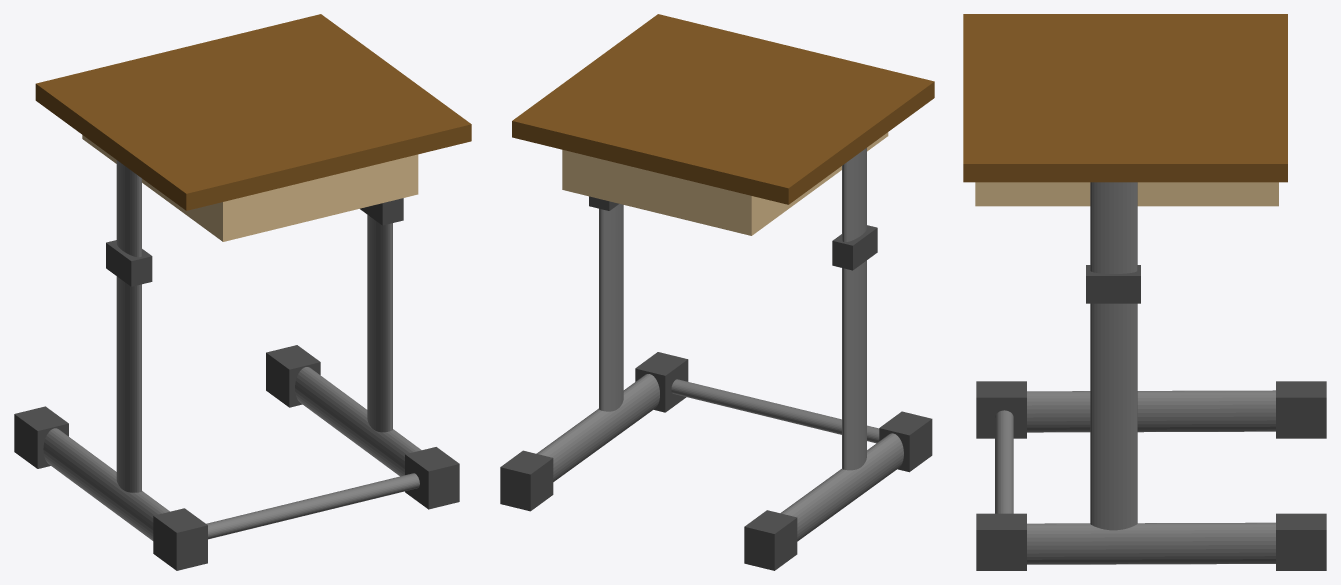
Rendered from desk.fbx.
3 views of the same model, side by side, from view 1: azimuth 30°, elevation 25°; view 2: azimuth 150°, elevation 25°; view 3: azimuth 270°, elevation 25° (orthographic). The views are drawn at different scales.
Visible parts, largest first — view 1: Cube.006, Cube.007, Cylinder, Cylinder.001, Cylinder.002, Cylinder.003, Cylinder.004, Cube.002, Cube.003, Cube.001, Cube, Cube.005 (+1 smaller); view 2: Cube.006, Cube.007, Cylinder, Cylinder.001, Cylinder.002, Cylinder.003, Cylinder.004, Cube, Cube.001, Cube.002, Cube.003, Cube.005; view 3: Cube.006, Cylinder.001, Cylinder.003, Cylinder.002, Cube.007, Cube, Cube.001, Cube.003, Cube.002, Cylinder.004, Cube.004.
Part boxes in pixels (x1=…): Cube.006: x1=35, y1=14, x2=471, y2=210; Cube.007: x1=82, y1=135, x2=418, y2=241; Cylinder: x1=116, y1=160, x2=141, y2=492; Cylinder.001: x1=367, y1=215, x2=392, y2=432; Cylinder.002: x1=43, y1=428, x2=169, y2=540; Cylinder.003: x1=295, y1=367, x2=421, y2=476; Cylinder.004: x1=206, y1=473, x2=419, y2=539; Cube.002: x1=153, y1=508, x2=207, y2=570; Cube.003: x1=405, y1=447, x2=459, y2=509; Cube.001: x1=14, y1=406, x2=68, y2=468; Cube: x1=266, y1=345, x2=320, y2=407; Cube.005: x1=106, y1=240, x2=152, y2=286; Cube.006: x1=512, y1=14, x2=934, y2=204; Cube.007: x1=562, y1=132, x2=888, y2=235; Cylinder: x1=842, y1=148, x2=866, y2=470; Cylinder.001: x1=599, y1=204, x2=623, y2=411; Cylinder.002: x1=780, y1=433, x2=903, y2=541; Cylinder.003: x1=536, y1=374, x2=659, y2=481; Cylinder.004: x1=671, y1=379, x2=879, y2=443; Cube: x1=500, y1=450, x2=553, y2=511; Cube.001: x1=744, y1=510, x2=797, y2=570; Cube.002: x1=879, y1=411, x2=932, y2=472; Cube.003: x1=635, y1=352, x2=688, y2=412; Cube.005: x1=832, y1=225, x2=877, y2=270; Cube.006: x1=963, y1=14, x2=1287, y2=182; Cylinder.001: x1=1090, y1=182, x2=1137, y2=530; Cylinder.003: x1=1027, y1=522, x2=1275, y2=564; Cylinder.002: x1=1027, y1=390, x2=1275, y2=432; Cube.007: x1=975, y1=182, x2=1278, y2=206; Cube: x1=1276, y1=513, x2=1326, y2=570; Cube.001: x1=1276, y1=381, x2=1326, y2=438; Cube.003: x1=976, y1=513, x2=1026, y2=570; Cube.002: x1=976, y1=381, x2=1026, y2=438; Cylinder.004: x1=995, y1=410, x2=1013, y2=513; Cube.004: x1=1086, y1=265, x2=1140, y2=303.
Bounding box in the file's own units: 199 × 252 × 202.
